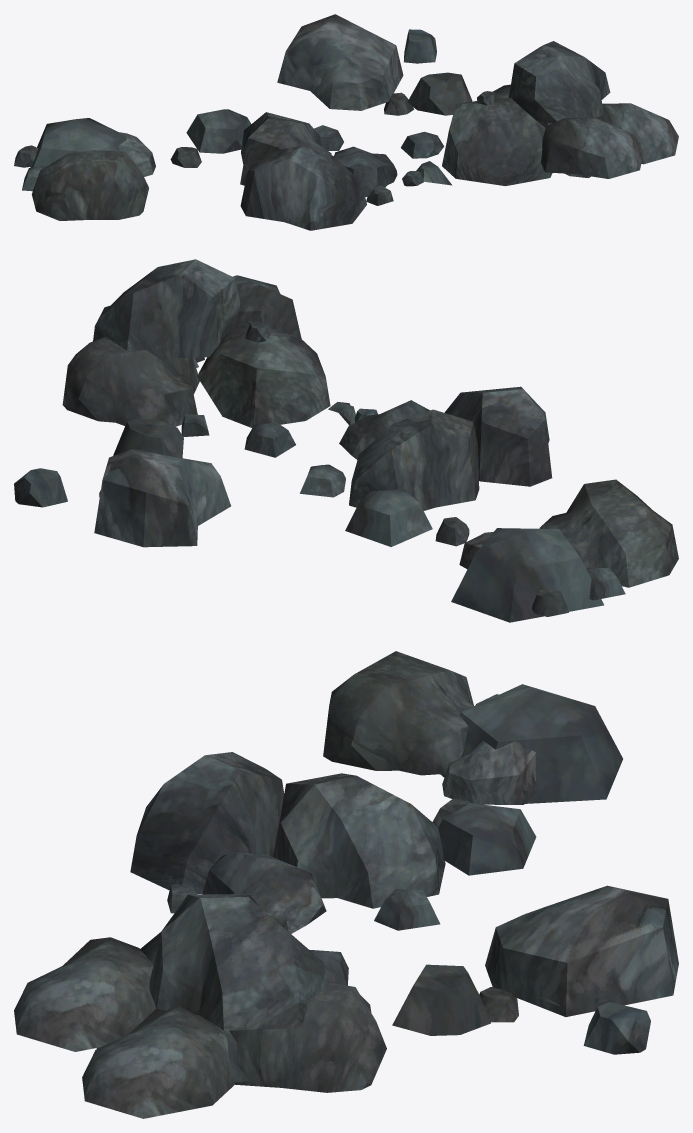
The model's file is object_rubble39.fbx.
3 views of the same model, one above another, from view 1: azimuth 30°, elevation 25°; view 2: azimuth 150°, elevation 25°; view 3: azimuth 270°, elevation 25° (orthographic). The views are drawn at different scales.
Visible parts, largest first — view 1: Material_#238683587/cliffside; view 2: Material_#238683587/cliffside; view 3: Material_#238683587/cliffside.
Part boxes in pixels (x1,y1,x2,y2): Material_#238683587/cliffside: (14, 14, 678, 230); Material_#238683587/cliffside: (14, 259, 678, 622); Material_#238683587/cliffside: (14, 651, 678, 1118).
Bounding box in the file's own units: 7.16 × 1.32 × 4.74.
